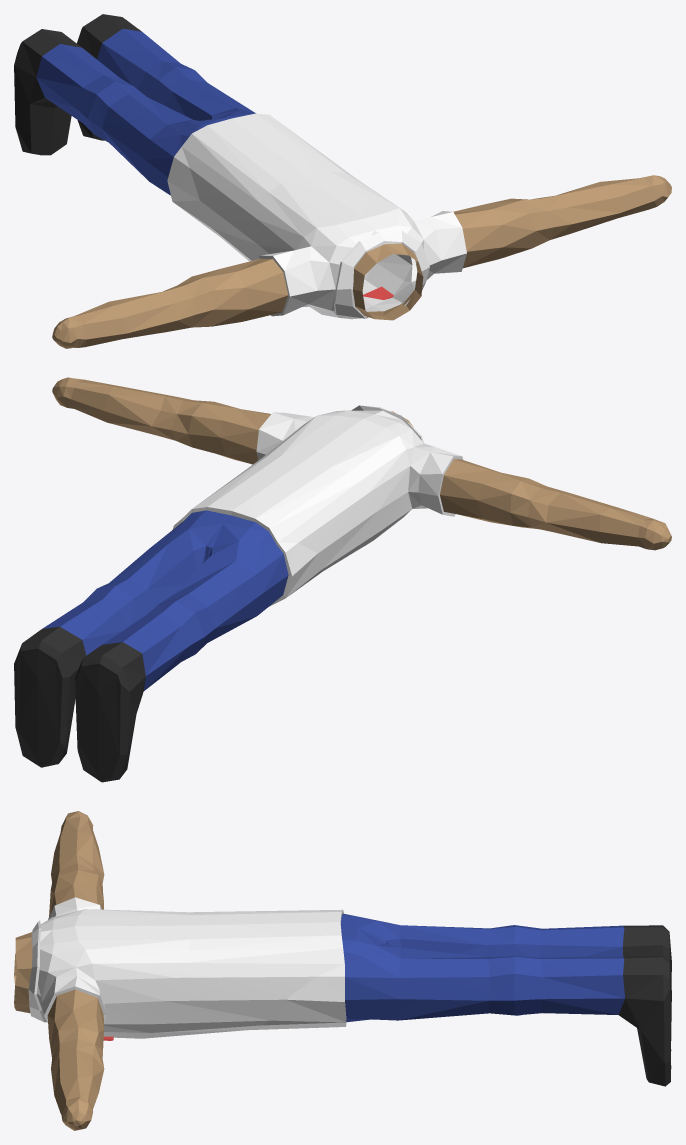
Rendered from StoreClercClothes.glb.
3 views of the same model, one above another, from view 1: azimuth 30°, elevation 25°; view 2: azimuth 150°, elevation 25°; view 3: azimuth 270°, elevation 25° (orthographic).
Visible parts, largest first — view 1: StoreClercClothes; view 2: StoreClercClothes; view 3: StoreClercClothes.
Part boxes in pixels (<box>): StoreClercClothes: <box>14,14,671,348</box>; StoreClercClothes: <box>14,377,671,782</box>; StoreClercClothes: <box>14,811,671,1130</box>.
Size of the model in its own units: 1.21 by 0.276 by 1.11.
1 material, 1 textured.
